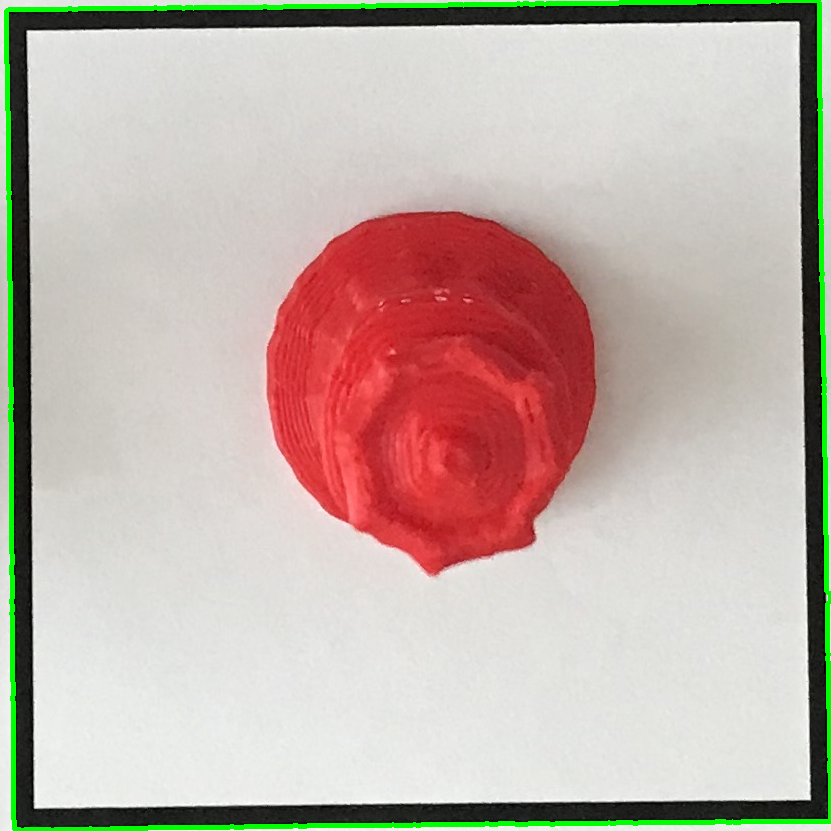Red Queen: (248, 210, 619, 581)
